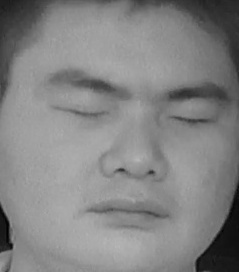blink: (55, 94, 111, 128), (168, 102, 216, 137)
mouth: (83, 188, 176, 237)
